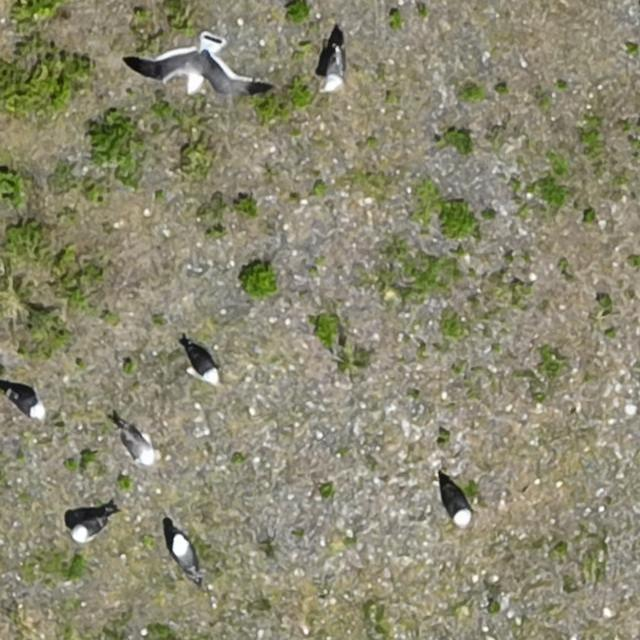F: (138, 26, 262, 105)
umineko: (445, 485, 470, 522), (11, 391, 44, 418), (189, 350, 217, 381), (125, 430, 151, 462), (172, 537, 194, 571), (74, 517, 106, 539), (327, 53, 344, 86)
